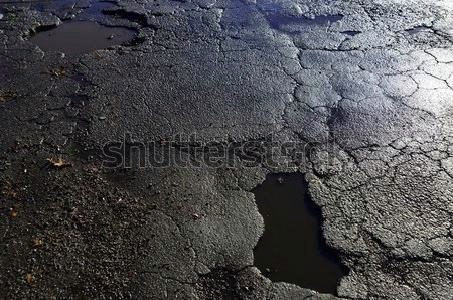pothole: (243, 166, 349, 293), (16, 5, 147, 56), (189, 262, 244, 297), (402, 22, 452, 48)
